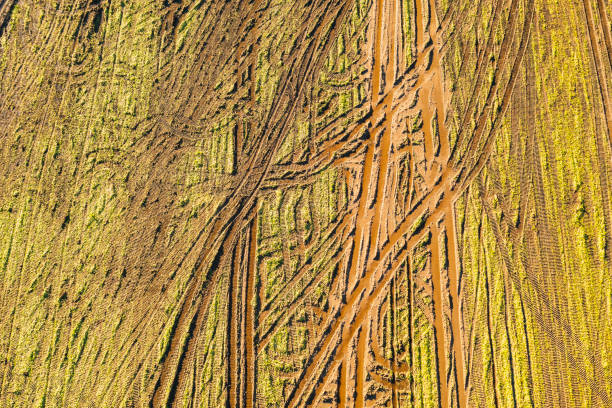vehicle_track: (29, 25, 490, 388)
